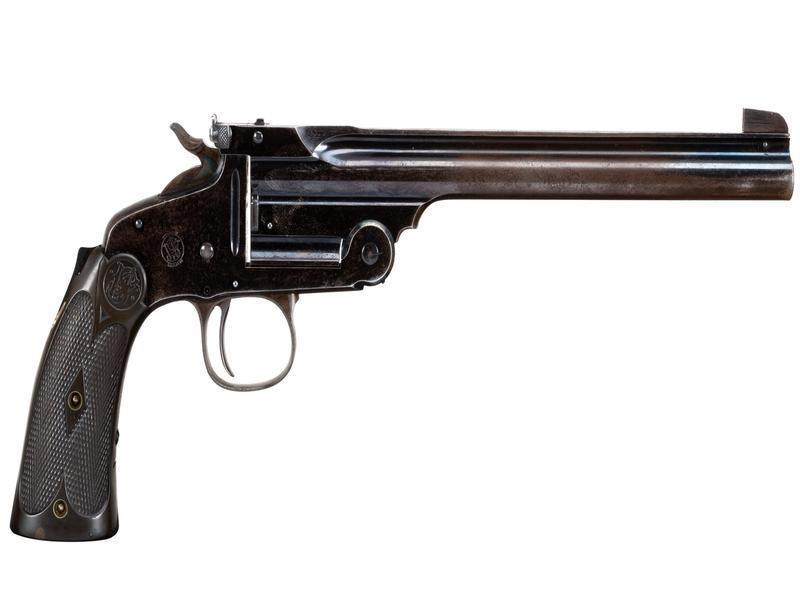GUN: (3, 104, 797, 551)
